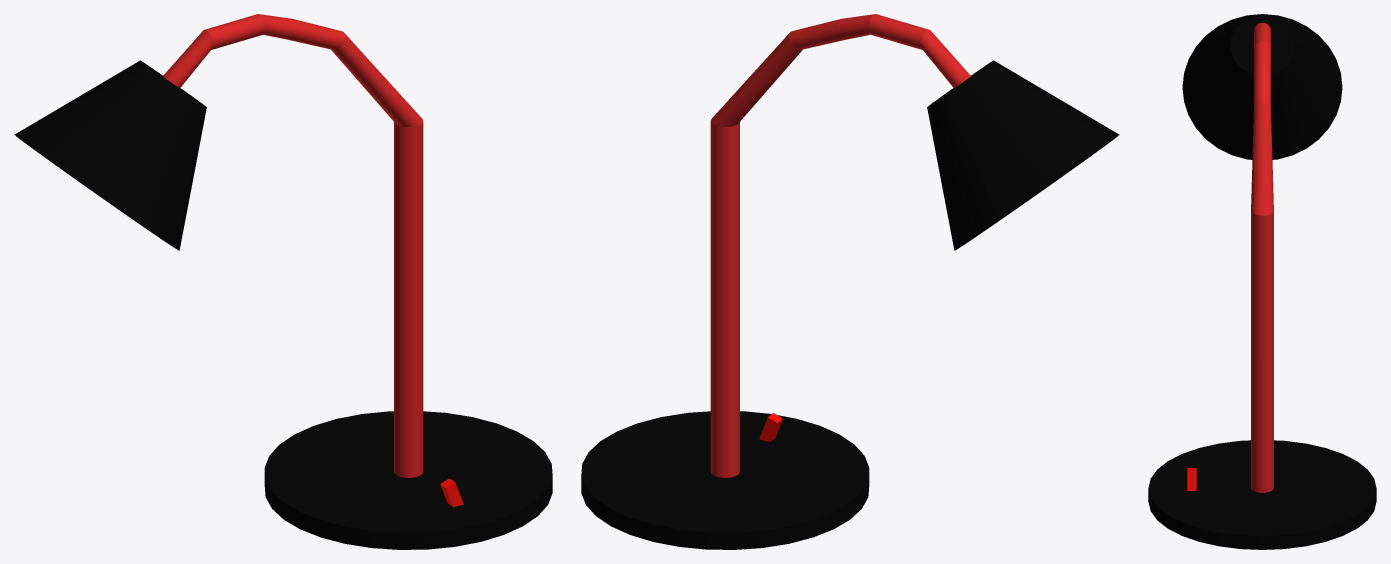
File: Lampara.fbx
The picture shows the model from 3 angles, left to right: view 1: azimuth 30°, elevation 25°; view 2: azimuth 150°, elevation 25°; view 3: azimuth 270°, elevation 25°; orthographic projection. The views are drawn at different scales.
Parts seen in each view (by area): view 1: Cylinder, Cylinder.002, Cylinder.001; view 2: Cylinder, Cylinder.002, Cylinder.001; view 3: Cylinder, Cylinder.002, Cylinder.001.
Boxes of the visible parts, bbox=[...] form: Cylinder: bbox=[264, 411, 552, 549]; Cylinder.002: bbox=[14, 60, 206, 250]; Cylinder.001: bbox=[163, 14, 423, 477]; Cylinder: bbox=[581, 411, 869, 549]; Cylinder.002: bbox=[927, 60, 1119, 250]; Cylinder.001: bbox=[710, 14, 970, 477]; Cylinder: bbox=[1148, 440, 1376, 549]; Cylinder.002: bbox=[1182, 14, 1342, 159]; Cylinder.001: bbox=[1251, 23, 1273, 492].
Bounding box in the file's own units: 402 × 390 × 200.
